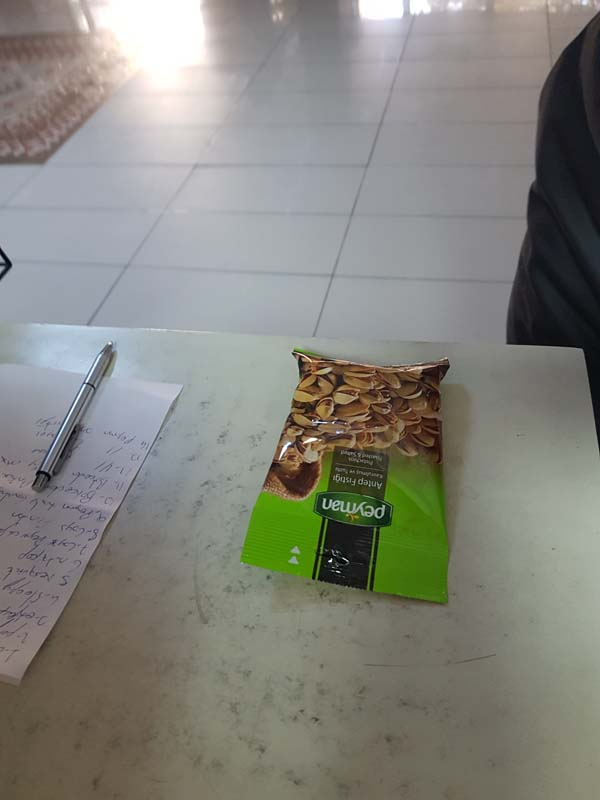antepfistigi: (239, 341, 459, 613)
